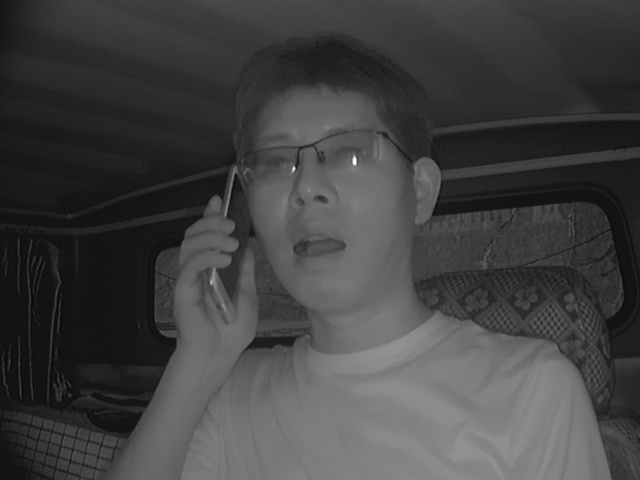hand: (159, 196, 267, 363)
